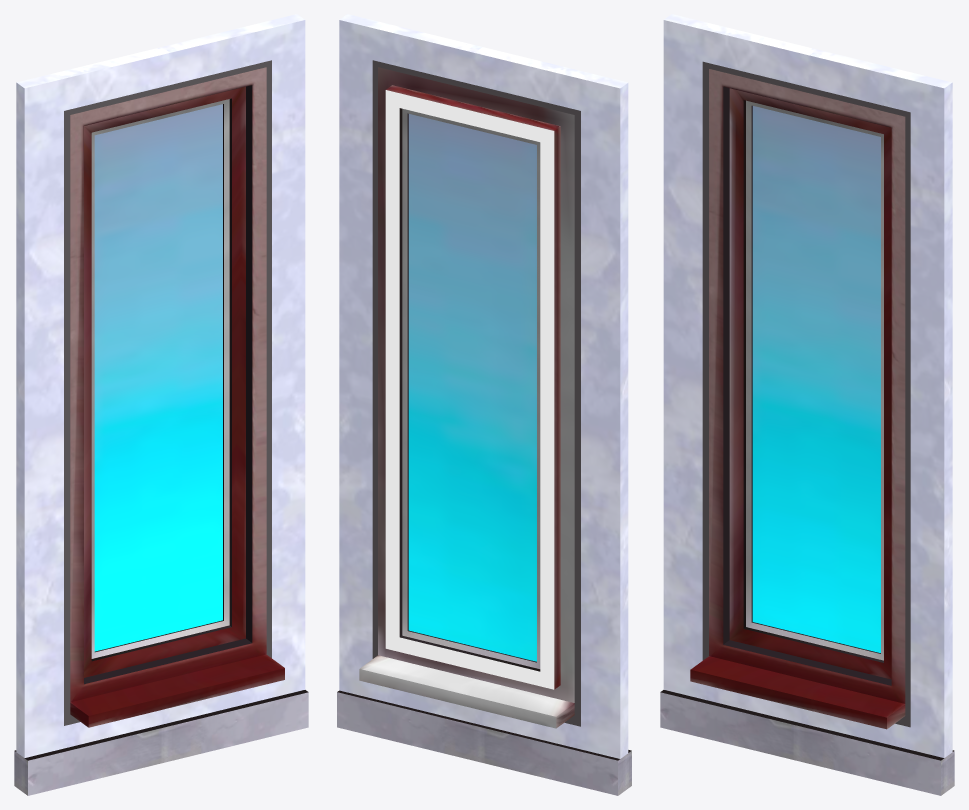
Rendered from e0e1877f-ef21-4c0b-a731-dca7e8970bcf.glb.
3 renders of one model, left to right at view 1: azimuth 30°, elevation 25°; view 2: azimuth 150°, elevation 25°; view 3: azimuth 330°, elevation 25°, orthographic.
Parts seen in each view (by area): view 1: SingleWall_Window.004; view 2: SingleWall_Window.004; view 3: SingleWall_Window.004.
Boxes of the visible parts, box(x1,y1,x2,y2) form: SingleWall_Window.004: box(14, 14, 308, 795); SingleWall_Window.004: box(337, 14, 631, 795); SingleWall_Window.004: box(660, 14, 954, 795).
Size of what is drawn, in the model's own units: 2 by 4.8 by 0.56.
1 material, 1 textured.
